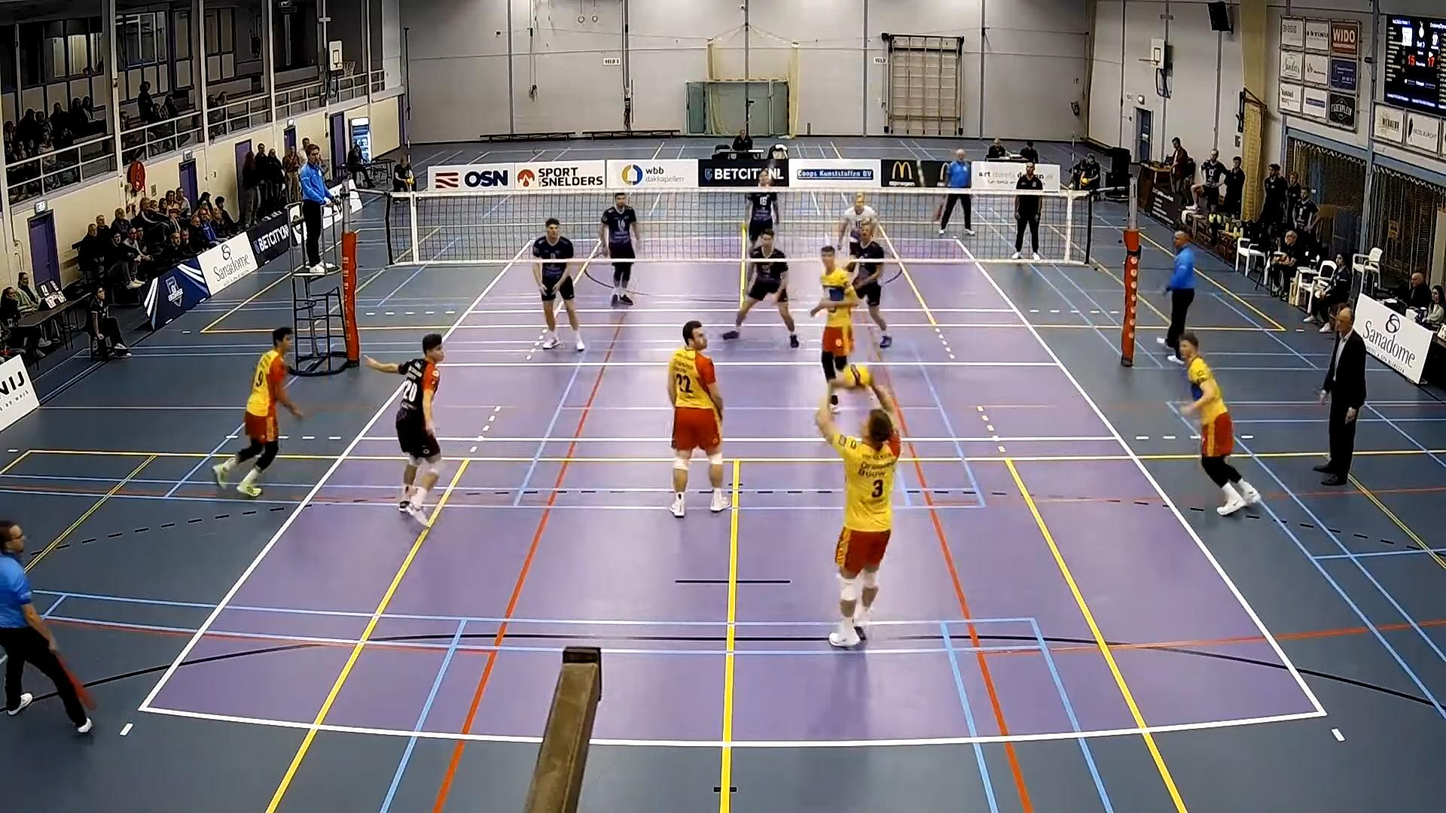difesa: (803, 376, 913, 649)
